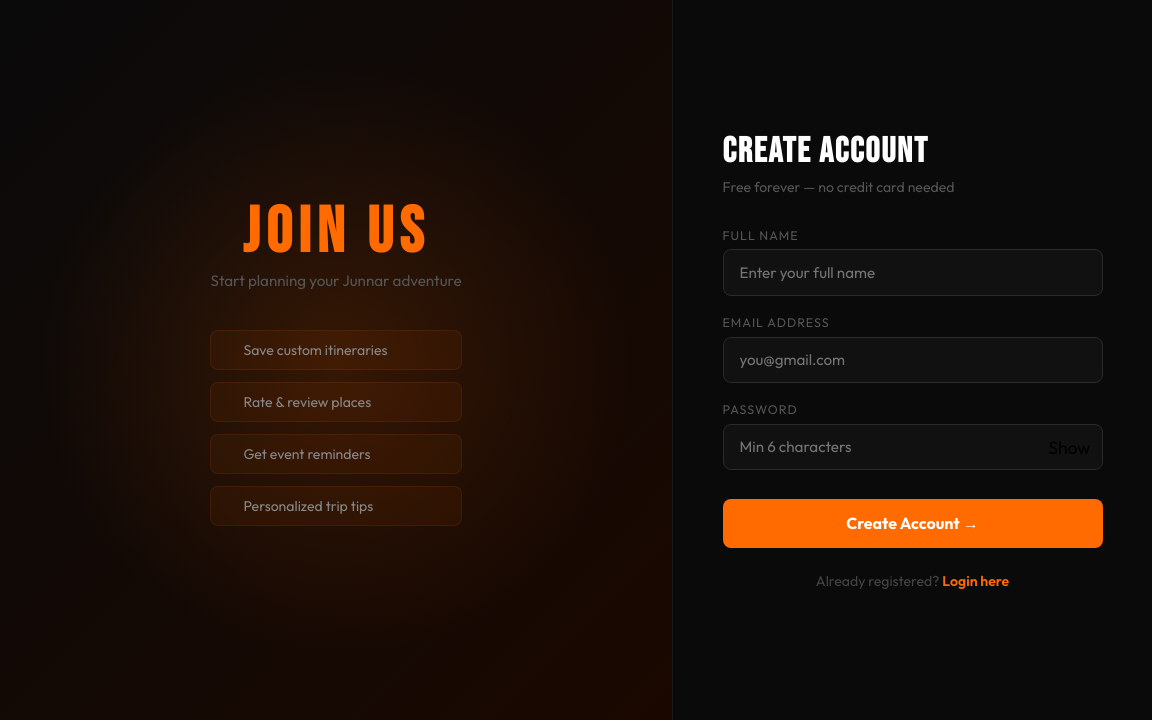
Test case: Register page › shows 'Creating account...' while waiting, then recovers if the request fails
The image size is (1152, 720).
Later steps or results of the test are not shown.
Type "Abhi" into the field with placeholder "Enter your full name". click: [912, 273]
box: [722,249,1102,296]
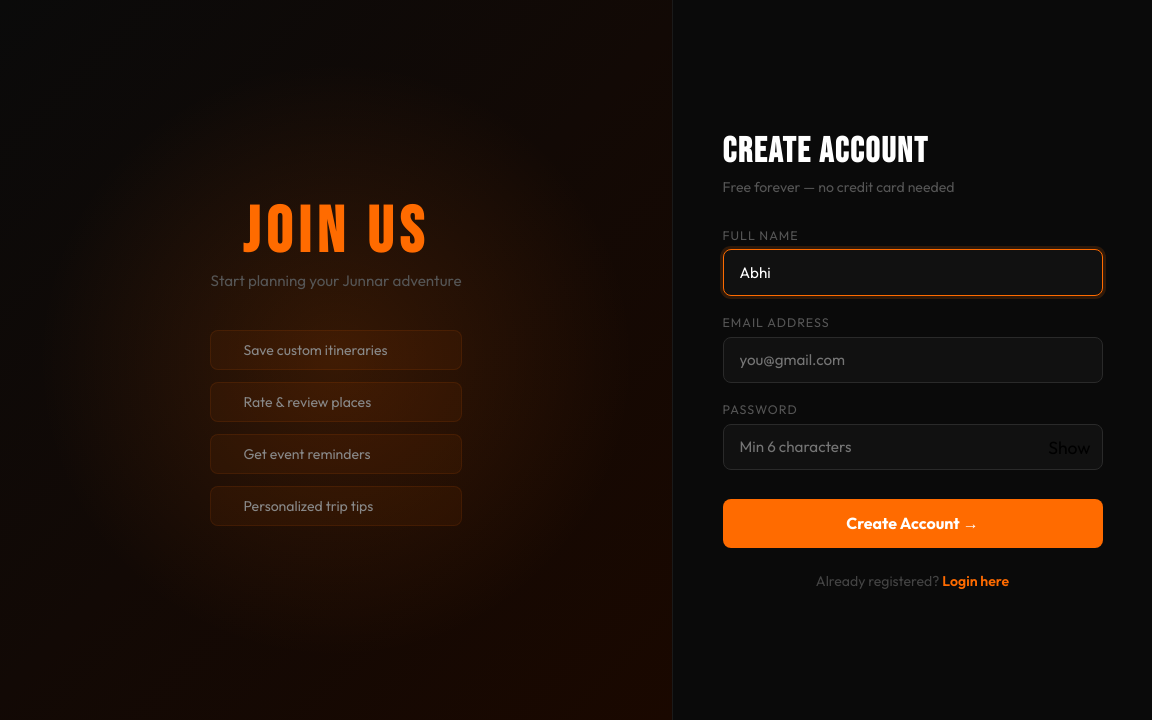
Type "a@gmail.com" into the field with placeholder "you@gmail.com". click: [912, 360]
box: [722,336,1102,383]
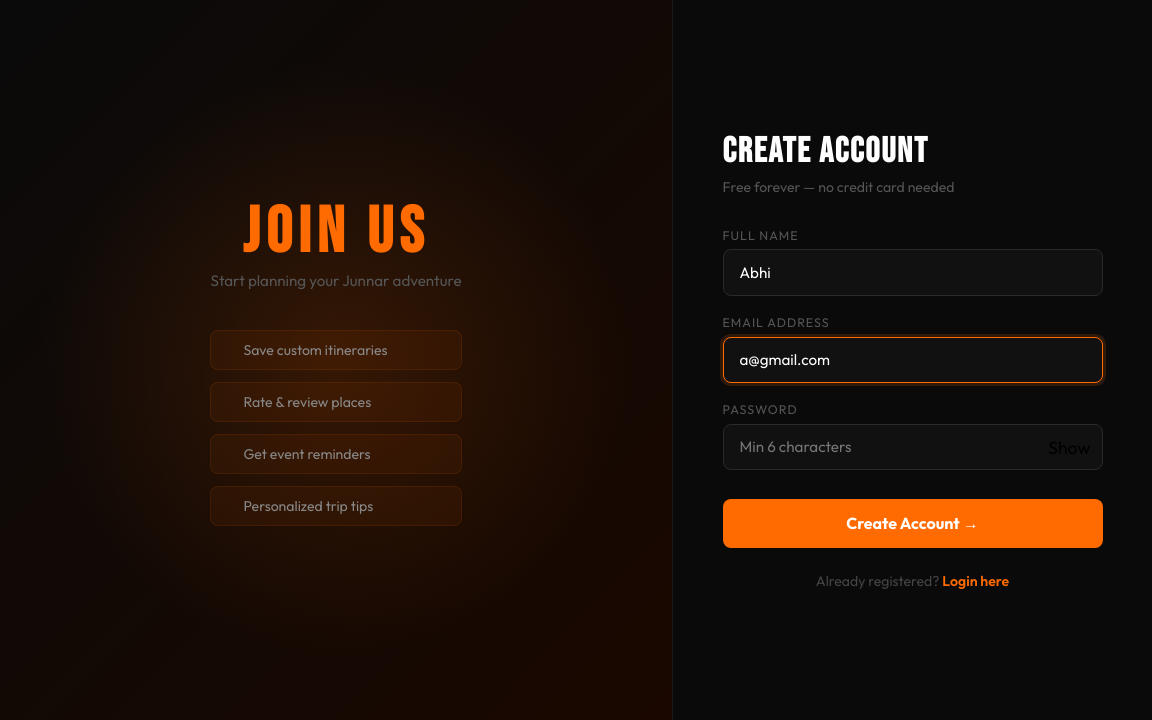
Type "secret1" into the password field with placeholder "Min 6 characters". click: [912, 447]
box: [722,424,1102,470]
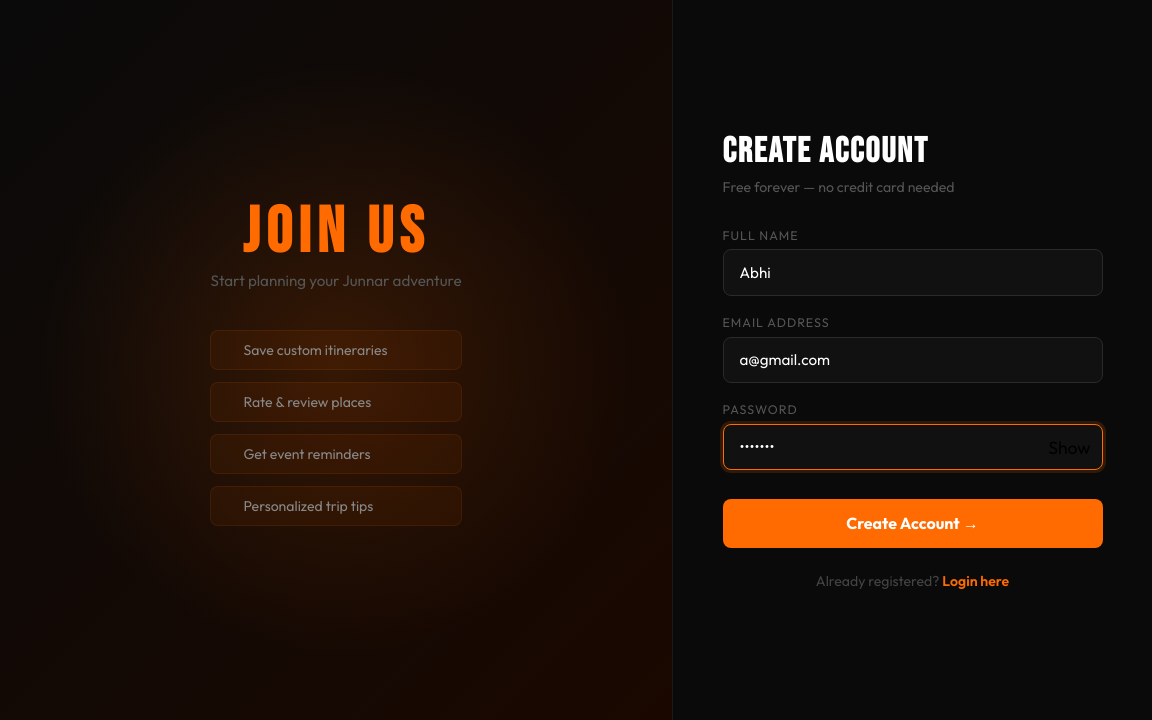
Click the button "Create Account →". click: [912, 524]
box: [722,499,1102,548]
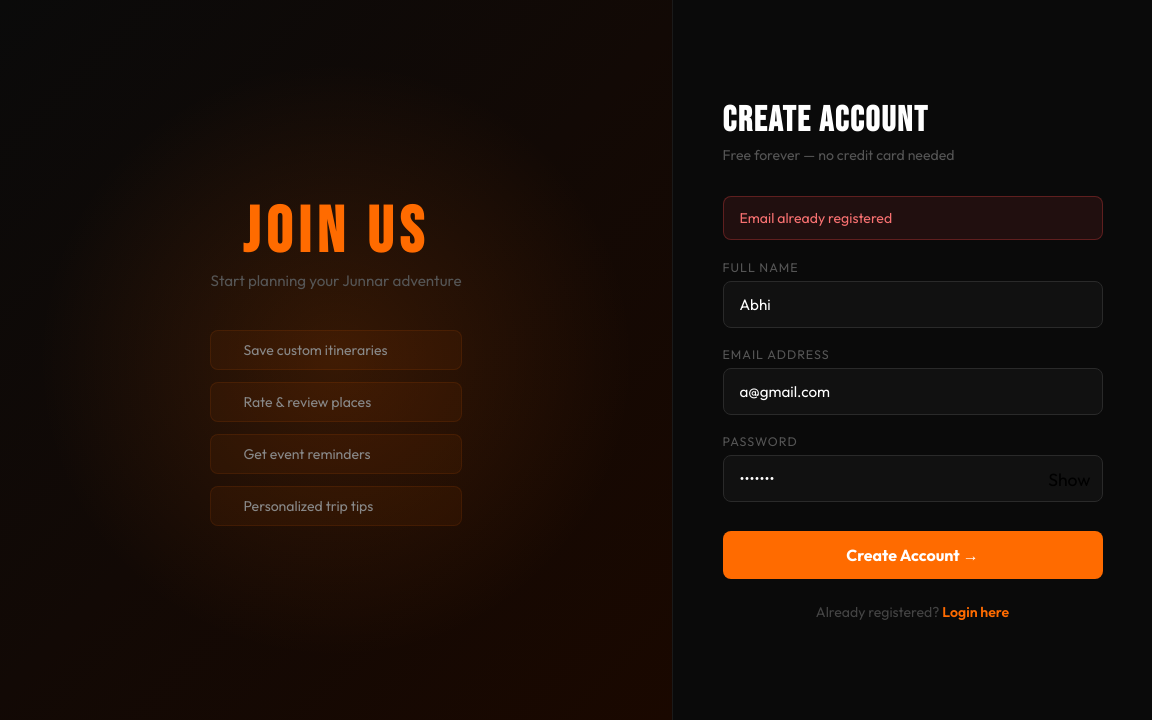
expect the button "Create Account →" is enabled: met, box [722,531,1102,580]
expect the text "Email already registered" is shown: met, box [722,196,1102,240]
